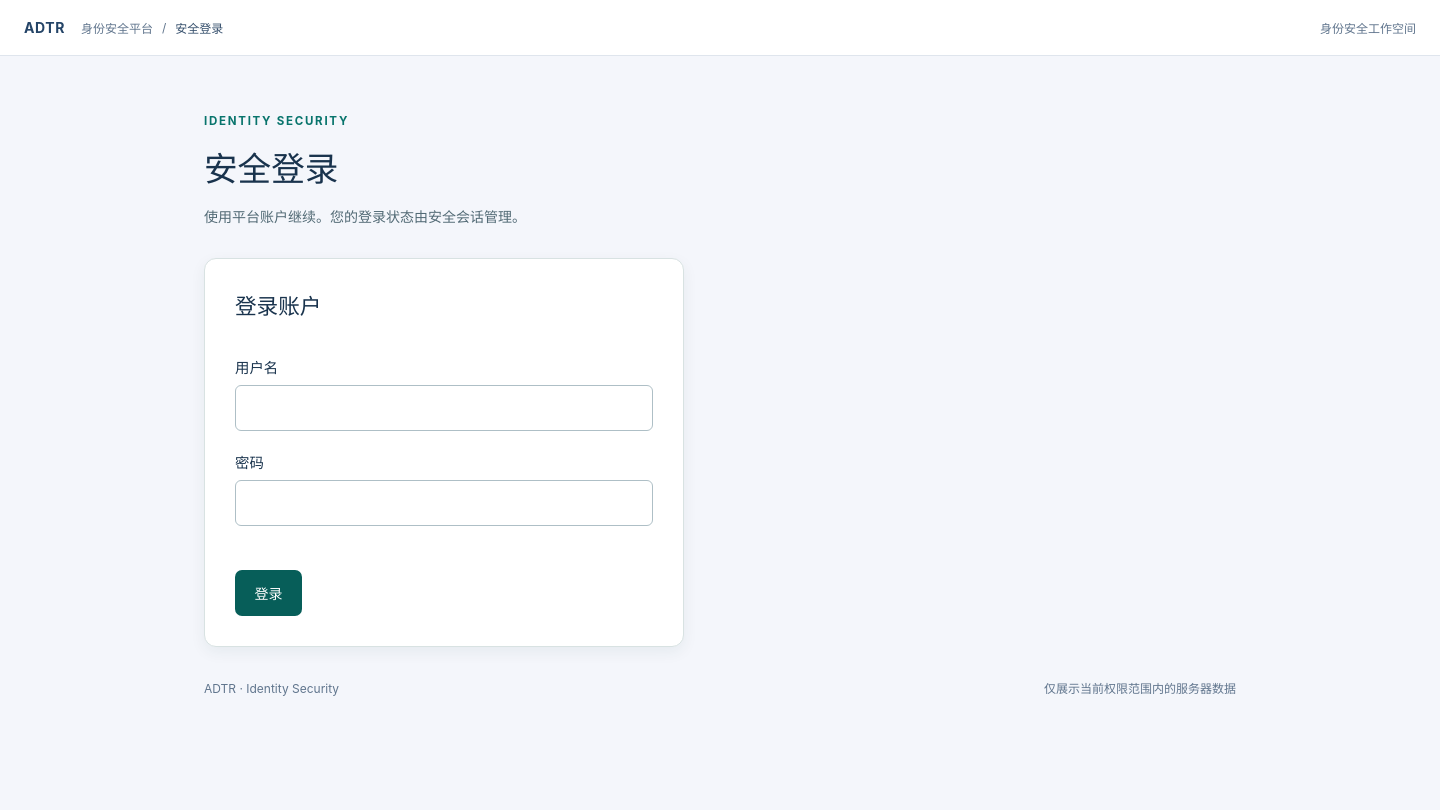
Test: authentication › shows rate limiting without fake login success
Expected: the heading "登录账户" is shown, [235,293,321,319]
Type "admin" into the field labelled "用户名" at (444, 408), box [235,385,653,431]
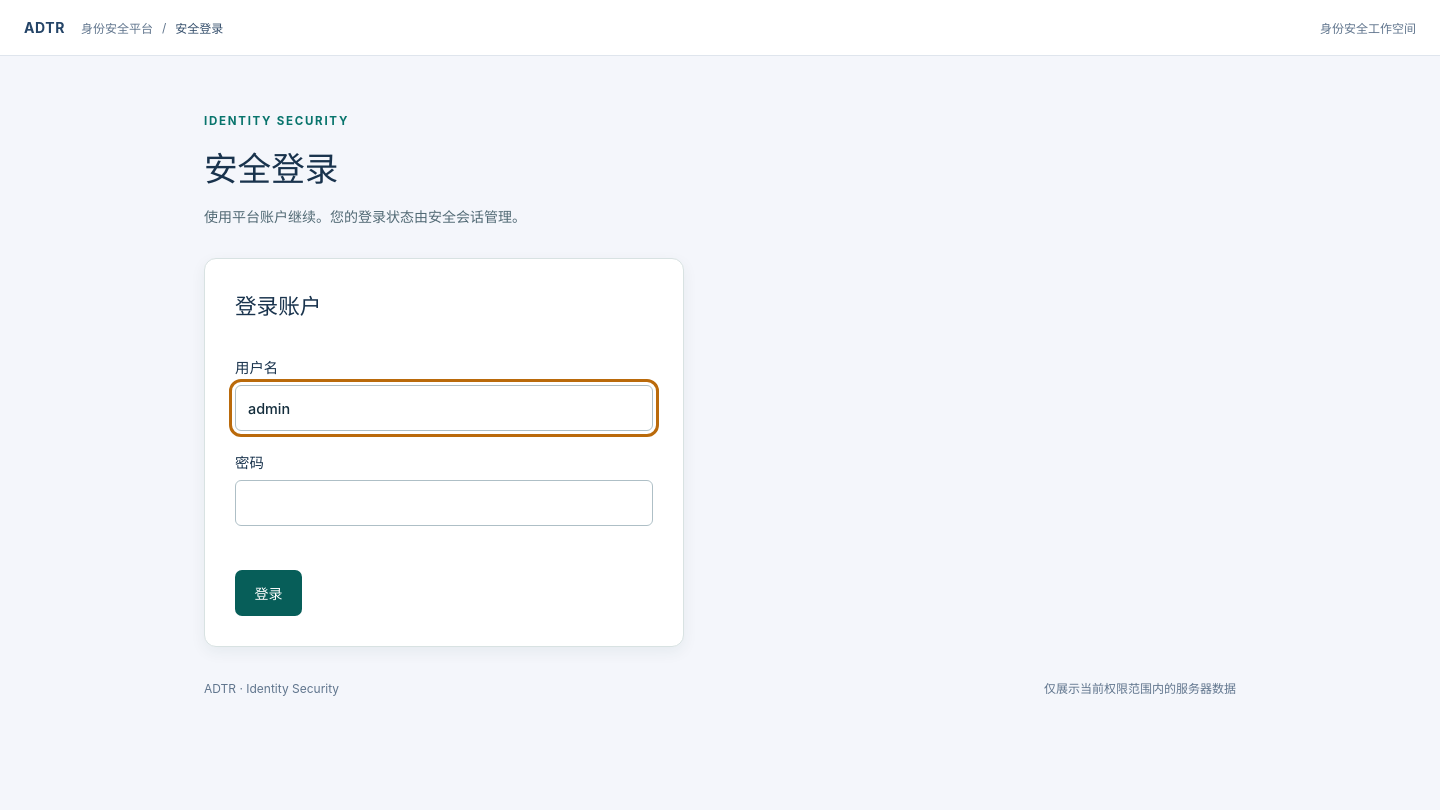
Type "sample-password" into the password field labelled "密码" at (444, 503), box [235,480,653,526]
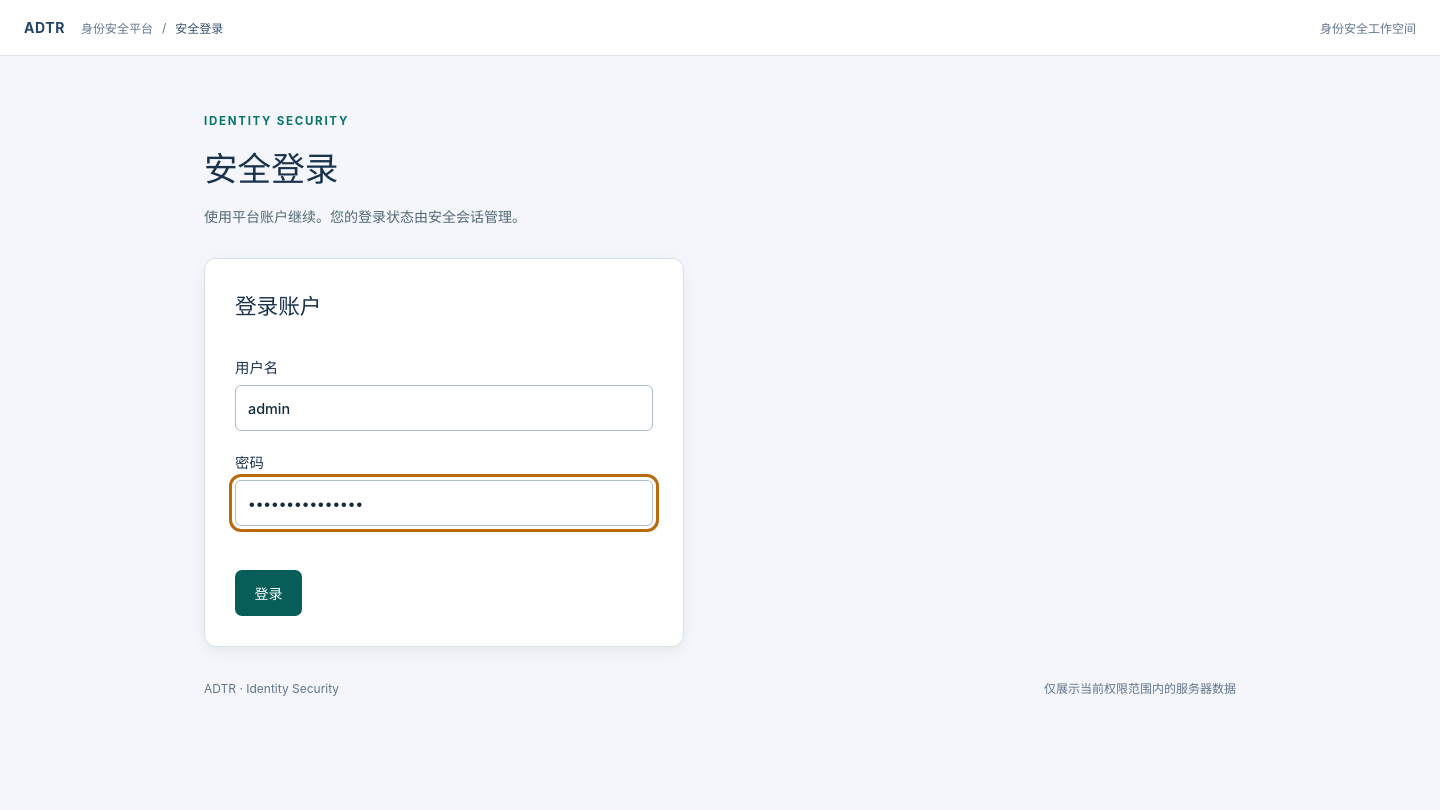
Click the button "登录" at (268, 593), box [235,570,302,616]
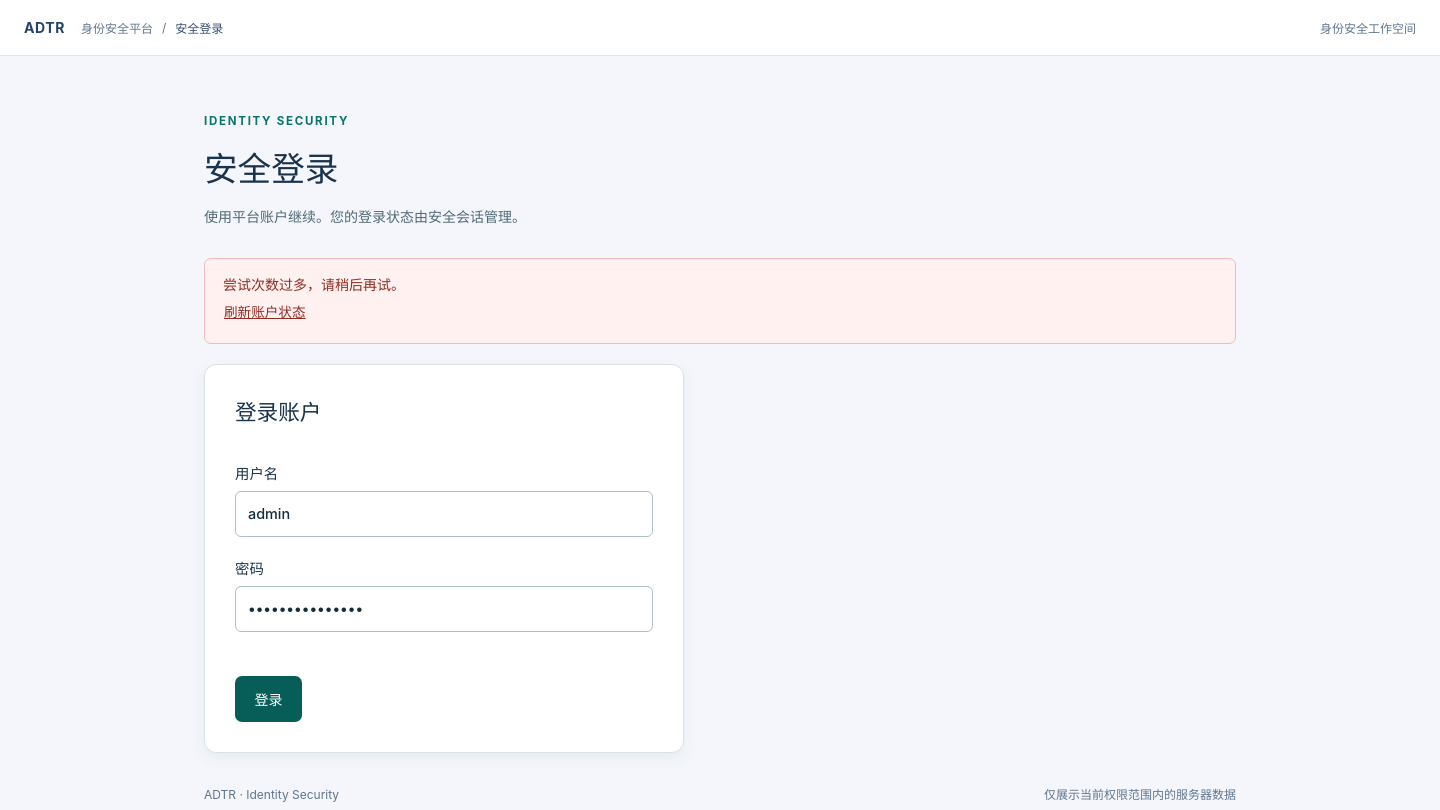
Expected: the heading "登录账户" is shown, [235,399,321,425]
Result: the message shows "尝试次数过多" at [223,276,405,293]
